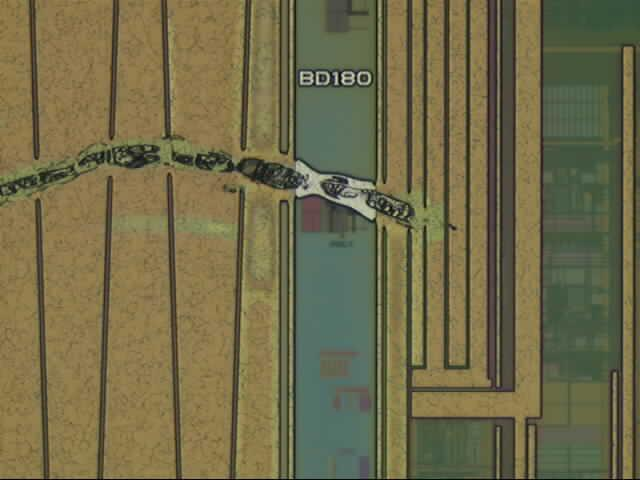SCRATCH: (1, 132, 463, 243)
